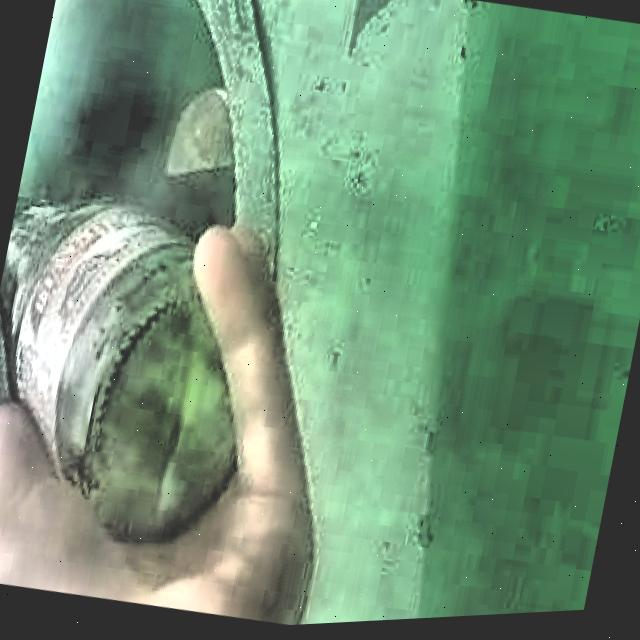glass: (0, 195, 235, 545)
